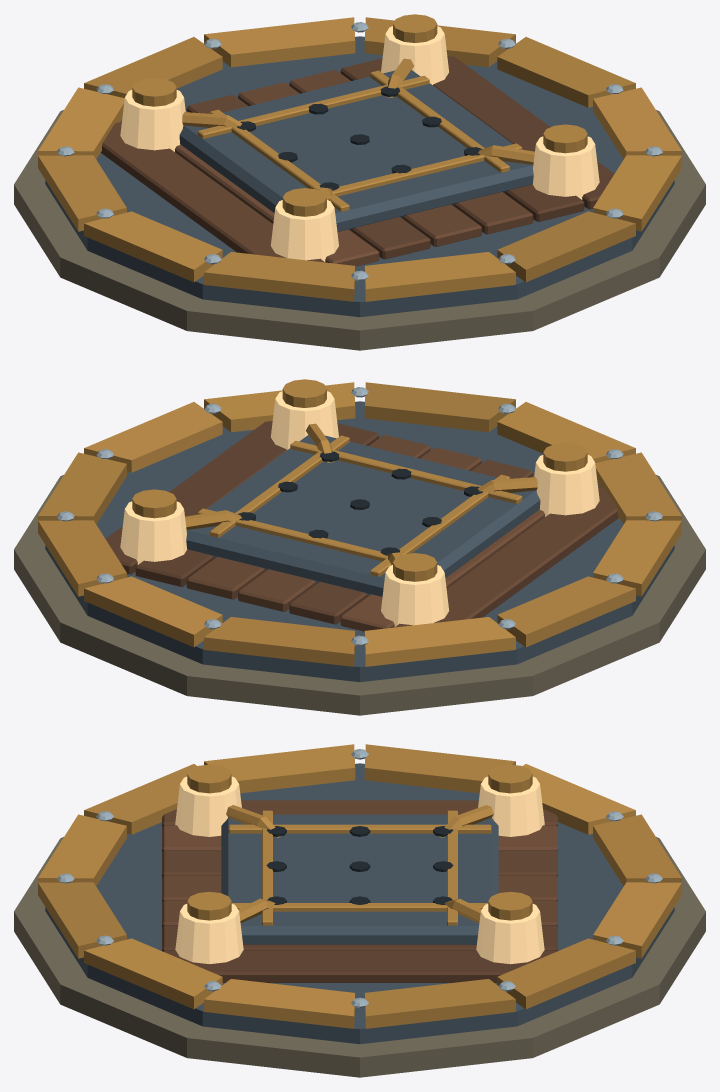
Rendered from trap__base__L01.glb.
The picture shows the model from 3 angles, top to bottom: view 1: azimuth 30°, elevation 25°; view 2: azimuth 150°, elevation 25°; view 3: azimuth 270°, elevation 25°; orthographic projection.
Visible parts, largest first — view 1: structure, weapon; view 2: structure, weapon; view 3: structure, weapon.
Part boxes in pixels (x1,y1,x2,y2): structure: [14, 17, 705, 350]; weapon: [120, 14, 599, 261]; structure: [14, 382, 705, 715]; weapon: [120, 379, 599, 626]; structure: [14, 744, 705, 1077]; weapon: [175, 764, 544, 964].
Size of the model in its own units: 0.8228 by 0.1232 by 0.8228.
